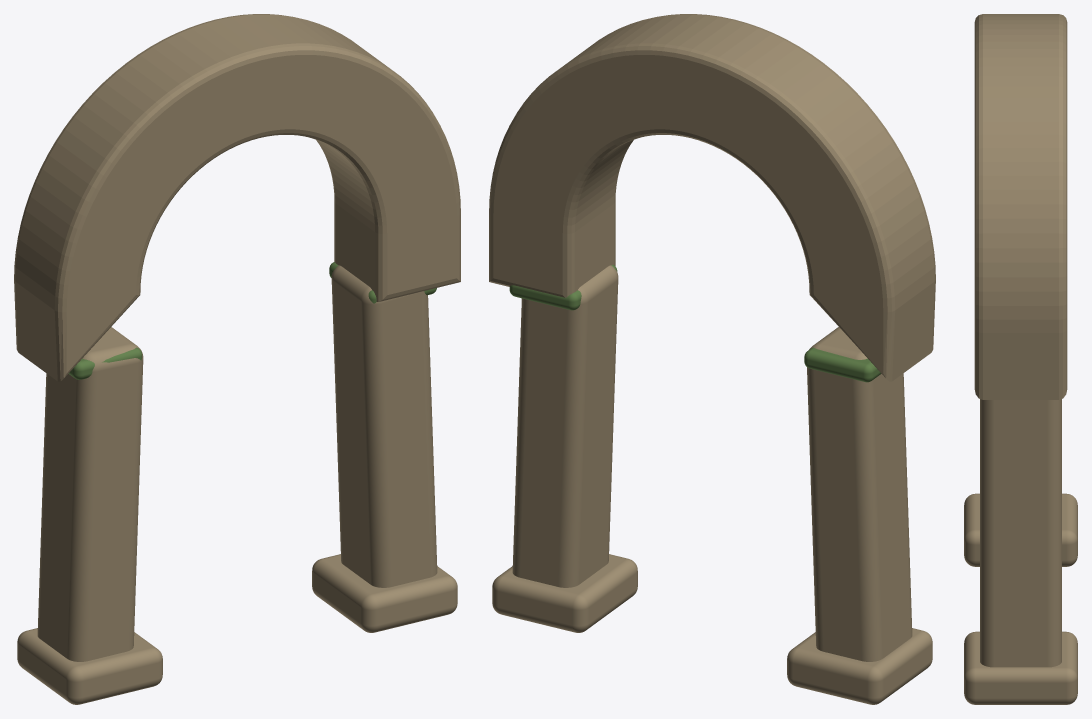
Rendered from ruin_arch.glb.
3 renders of one model, left to right at view 1: azimuth 30°, elevation 25°; view 2: azimuth 150°, elevation 25°; view 3: azimuth 270°, elevation 25°, orthographic. The views are drawn at different scales.
Visible parts, largest first — view 1: ruin_arch, ruin_column_-1, ruin_column_1, verdant_ruin_arch; view 2: ruin_arch, ruin_column_-1, ruin_column_1, verdant_ruin_arch; view 3: ruin_arch, ruin_column_1, verdant_ruin_arch.
Boxes of the visible parts, box(x1,y1,x2,y2) form: ruin_arch: box(14, 14, 460, 381); ruin_column_-1: box(37, 327, 143, 661); ruin_column_1: box(331, 265, 437, 587); verdant_ruin_arch: box(17, 262, 457, 704); ruin_arch: box(489, 14, 935, 381); ruin_column_-1: box(807, 327, 912, 661); ruin_column_1: box(512, 265, 618, 587); verdant_ruin_arch: box(492, 265, 932, 704); ruin_arch: box(974, 14, 1067, 399); ruin_column_1: box(980, 399, 1061, 667); verdant_ruin_arch: box(964, 493, 1077, 704).
Size of the model in its own units: 4.26 by 6.11 by 1.08.
